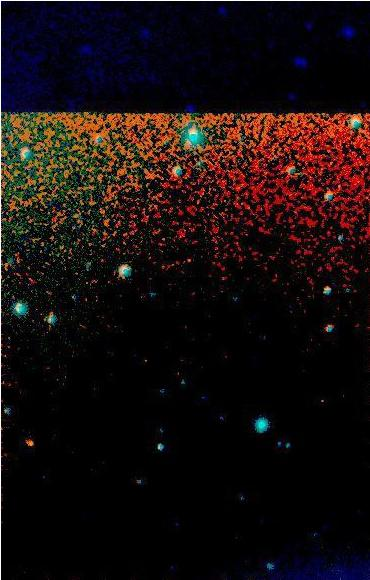star: (12, 424, 42, 454)
